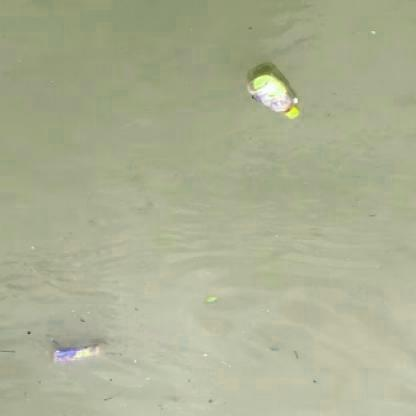Plastic: (243, 64, 304, 126)
Trash: (46, 338, 110, 370)
